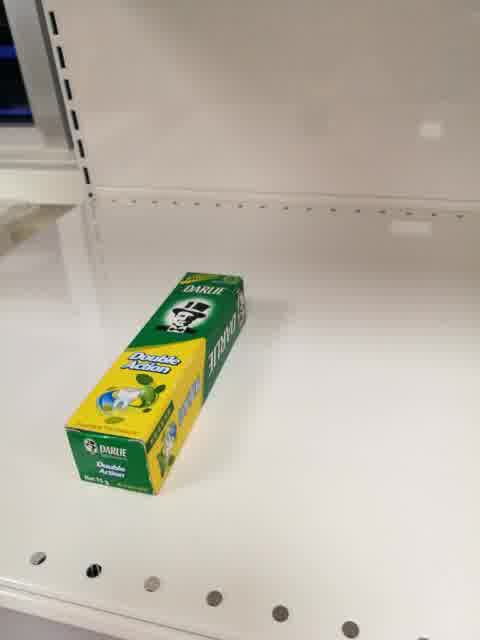toothpaste: (64, 271, 246, 497)
